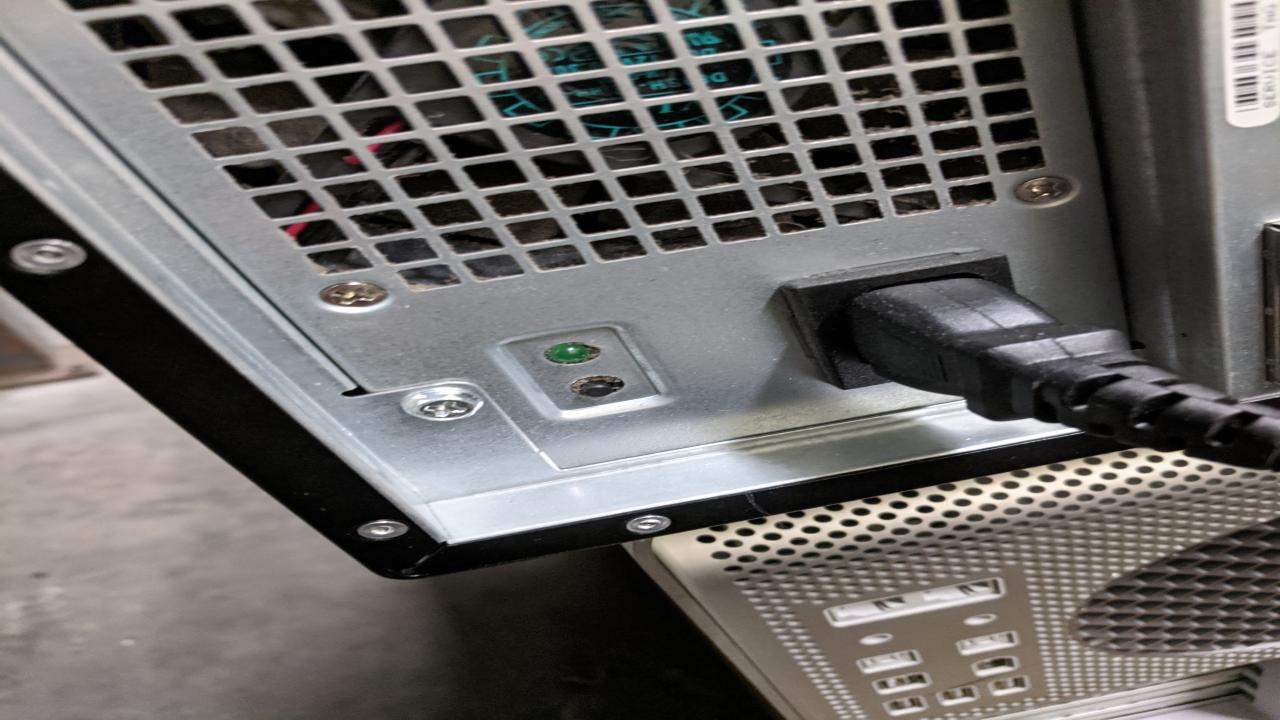CRS: (401, 385, 481, 426), (313, 280, 390, 310), (1015, 176, 1075, 206)
